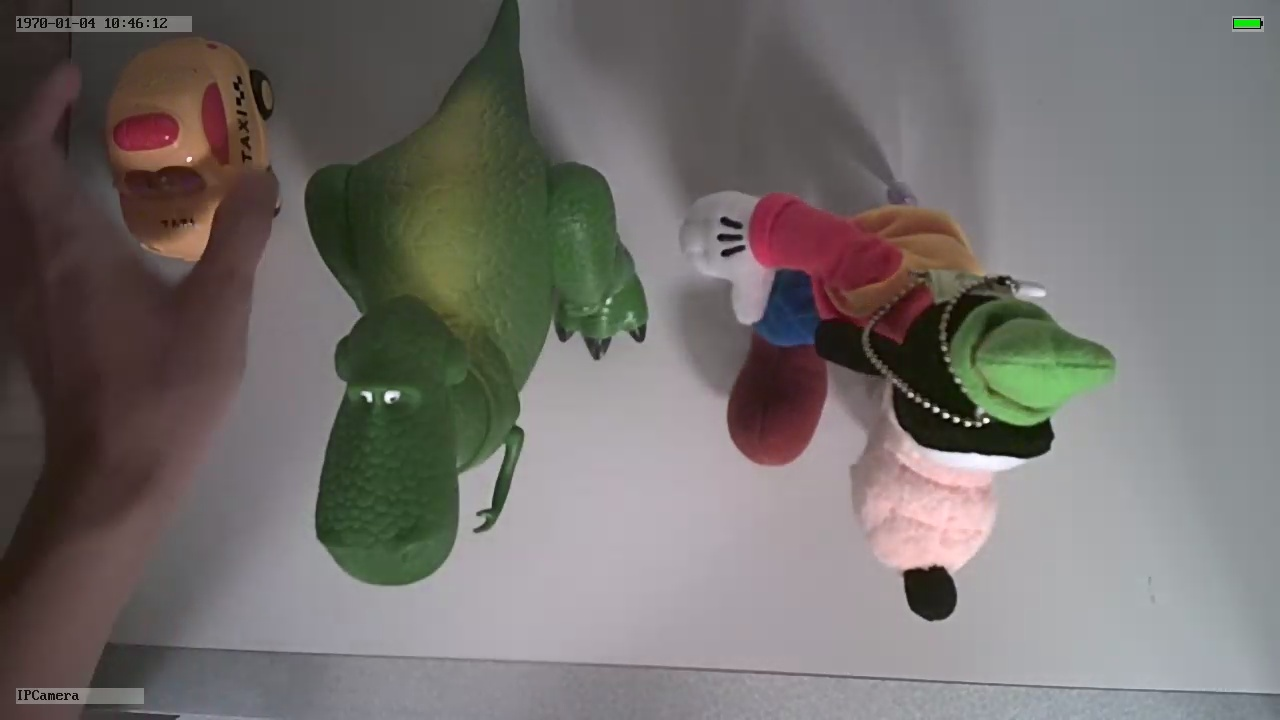goofy: (675, 185, 1120, 629)
rex: (303, 73, 648, 588)
